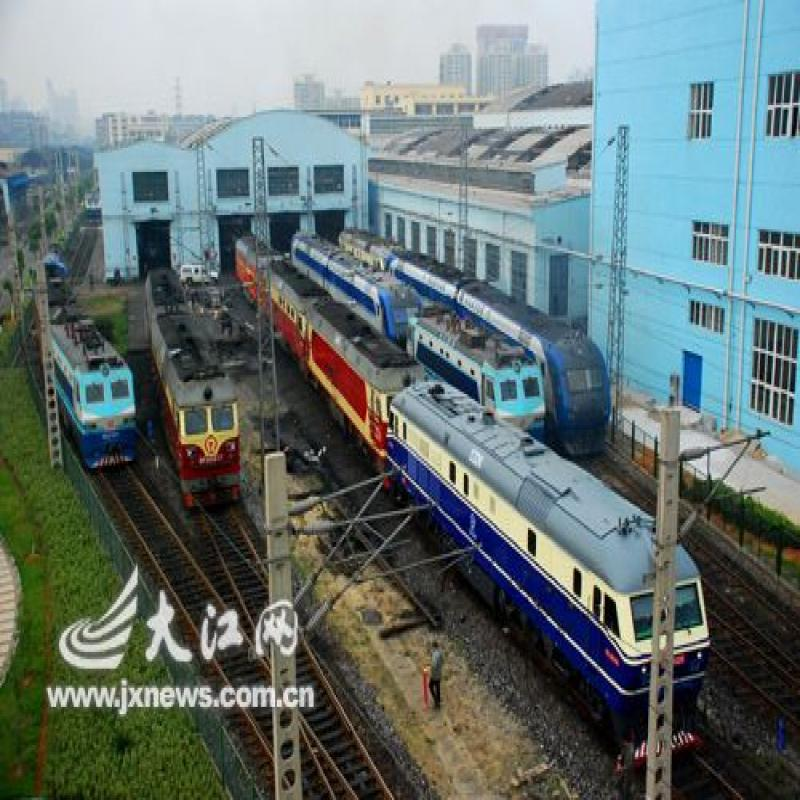train: (217, 219, 723, 699)
